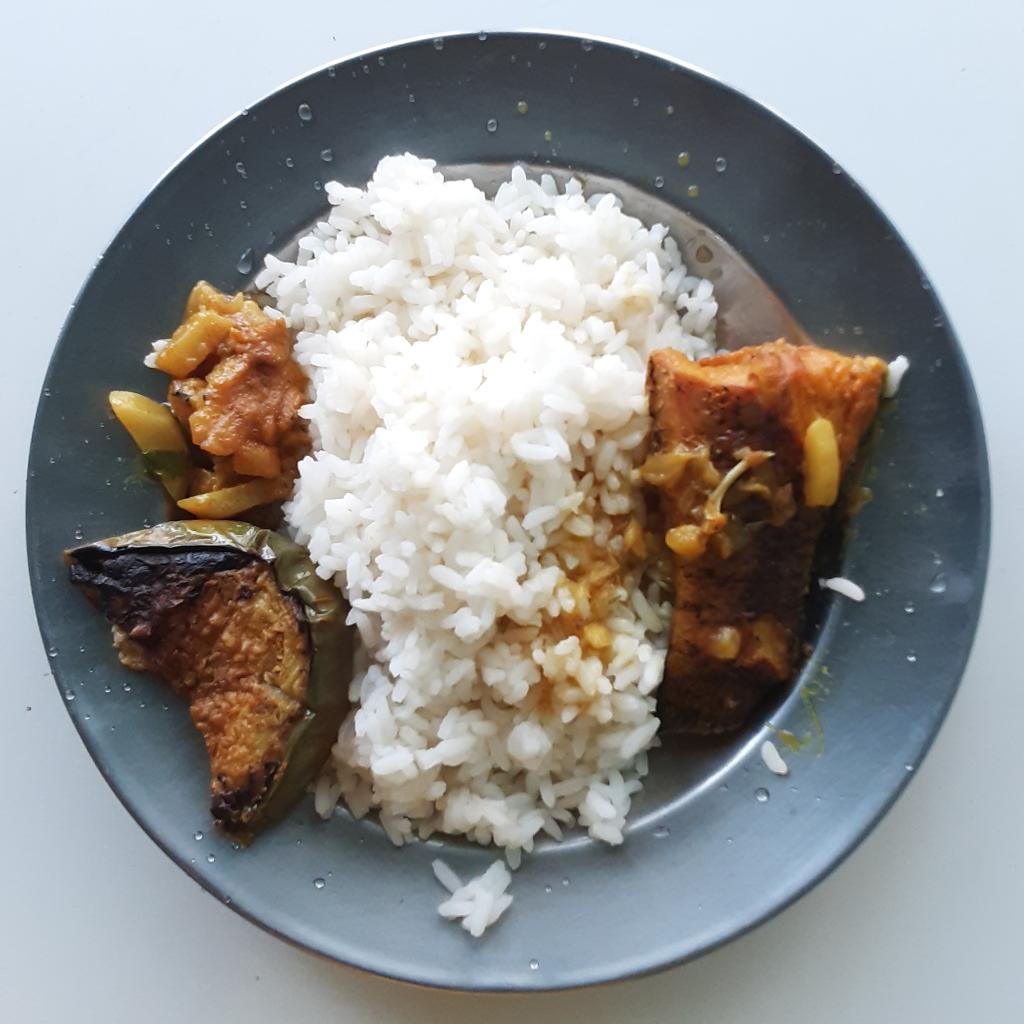begun-vaji: (56, 519, 354, 858)
fish: (647, 347, 909, 733)
potato: (102, 277, 307, 515)
rice: (242, 152, 725, 869), (432, 847, 513, 935)
